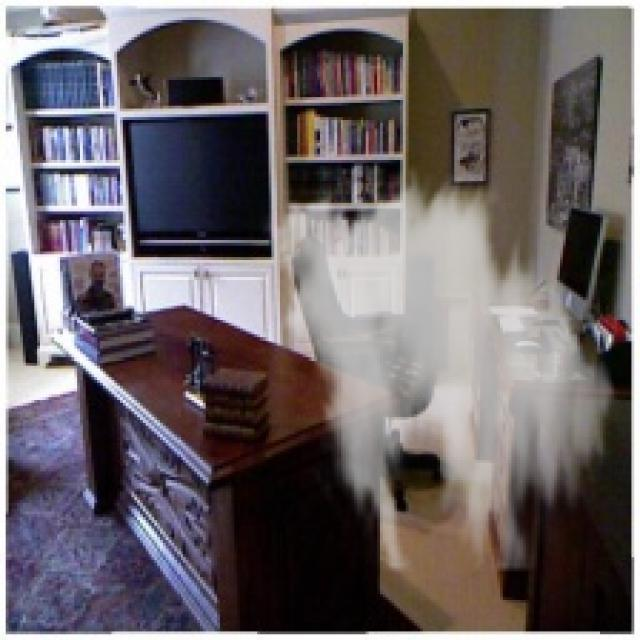Smoke: (257, 166, 626, 572)
